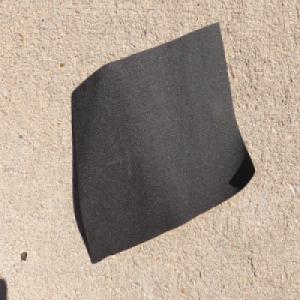PaintChip: (70, 21, 256, 265)
